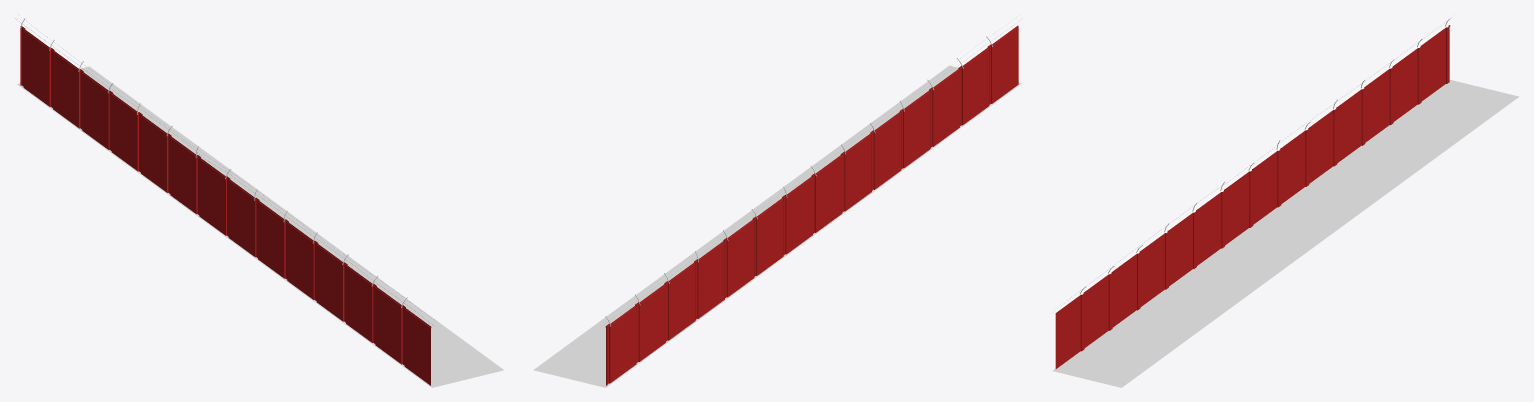
The model's file is Brick Wall and Road.FBX.
The picture shows the model from 3 angles, left to right: view 1: azimuth 30°, elevation 25°; view 2: azimuth 150°, elevation 25°; view 3: azimuth 330°, elevation 25°; orthographic projection. The views are drawn at different scales.
Parts seen in each view (by area): view 1: Object115, Box2010, Box2013, Box2016, Box2018, Box3337, Box033, Box2012, Box2015, Box3336, Box2011, Box2017 (+11 smaller); view 2: Object107, Box3337, Box3336, Box033, Box2011, Box2013, Box2015, Box2018, Box2010, Box2014, Box2017, Box2012 (+11 smaller); view 3: Object115, Object113, Object107, Object109, Object111, Object108, Object114, Object110, Object112, Box3336, Box033, Box2014 (+11 smaller).
Boxes of the visible parts, left/top/right/bottom form: Object115: left=386, top=336, right=503, bottom=387; Box2010: left=226, top=176, right=255, bottom=256; Box2013: left=313, top=240, right=343, bottom=321; Box2016: left=137, top=112, right=166, bottom=192; Box2018: left=79, top=69, right=108, bottom=149; Box3337: left=20, top=26, right=49, bottom=106; Box033: left=196, top=155, right=225, bottom=235; Box2012: left=284, top=219, right=314, bottom=299; Box2015: left=167, top=133, right=196, bottom=213; Box3336: left=401, top=305, right=431, bottom=385; Box2011: left=255, top=197, right=284, bottom=278; Box2017: left=108, top=90, right=138, bottom=170; Object107: left=533, top=336, right=651, bottom=387; Box3337: left=605, top=305, right=636, bottom=385; Box3336: left=987, top=25, right=1018, bottom=105; Box033: left=782, top=176, right=812, bottom=256; Box2011: left=840, top=133, right=871, bottom=212; Box2013: left=899, top=90, right=930, bottom=170; Box2015: left=752, top=197, right=783, bottom=277; Box2018: left=664, top=262, right=695, bottom=341; Box2010: left=811, top=155, right=842, bottom=233; Box2014: left=929, top=68, right=959, bottom=148; Box2017: left=694, top=241, right=724, bottom=320; Box2012: left=870, top=111, right=900, bottom=191; Object115: left=1052, top=339, right=1165, bottom=387; Object113: left=1142, top=274, right=1253, bottom=322; Object107: left=1407, top=79, right=1518, bottom=128; Object109: left=1319, top=145, right=1430, bottom=193; Object111: left=1230, top=209, right=1342, bottom=258; Object108: left=1364, top=112, right=1474, bottom=161; Object114: left=1098, top=306, right=1209, bottom=355; Object110: left=1274, top=177, right=1386, bottom=225; Object112: left=1186, top=242, right=1297, bottom=290; Box3336: left=1055, top=292, right=1084, bottom=368; Box033: left=1252, top=148, right=1281, bottom=224; Box2014: left=1112, top=251, right=1141, bottom=327.
Bounding box in the file's own units: 12.67 × 11.29 × 125.
